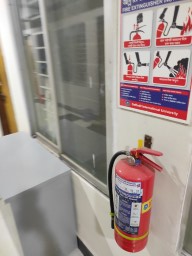fire_extinguisher: (110, 38, 190, 110)
